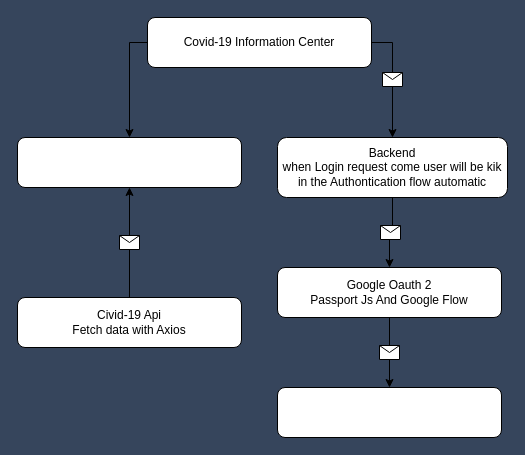
Image size: 525x455. Some labels were removed from this diagram. Each missing label, with the centre of its shape:
"Frontend React and Material Ui and React chart" goes at point (129, 162).
"MongoDb Atlas Save user data to ckeck later" goes at point (389, 412).
